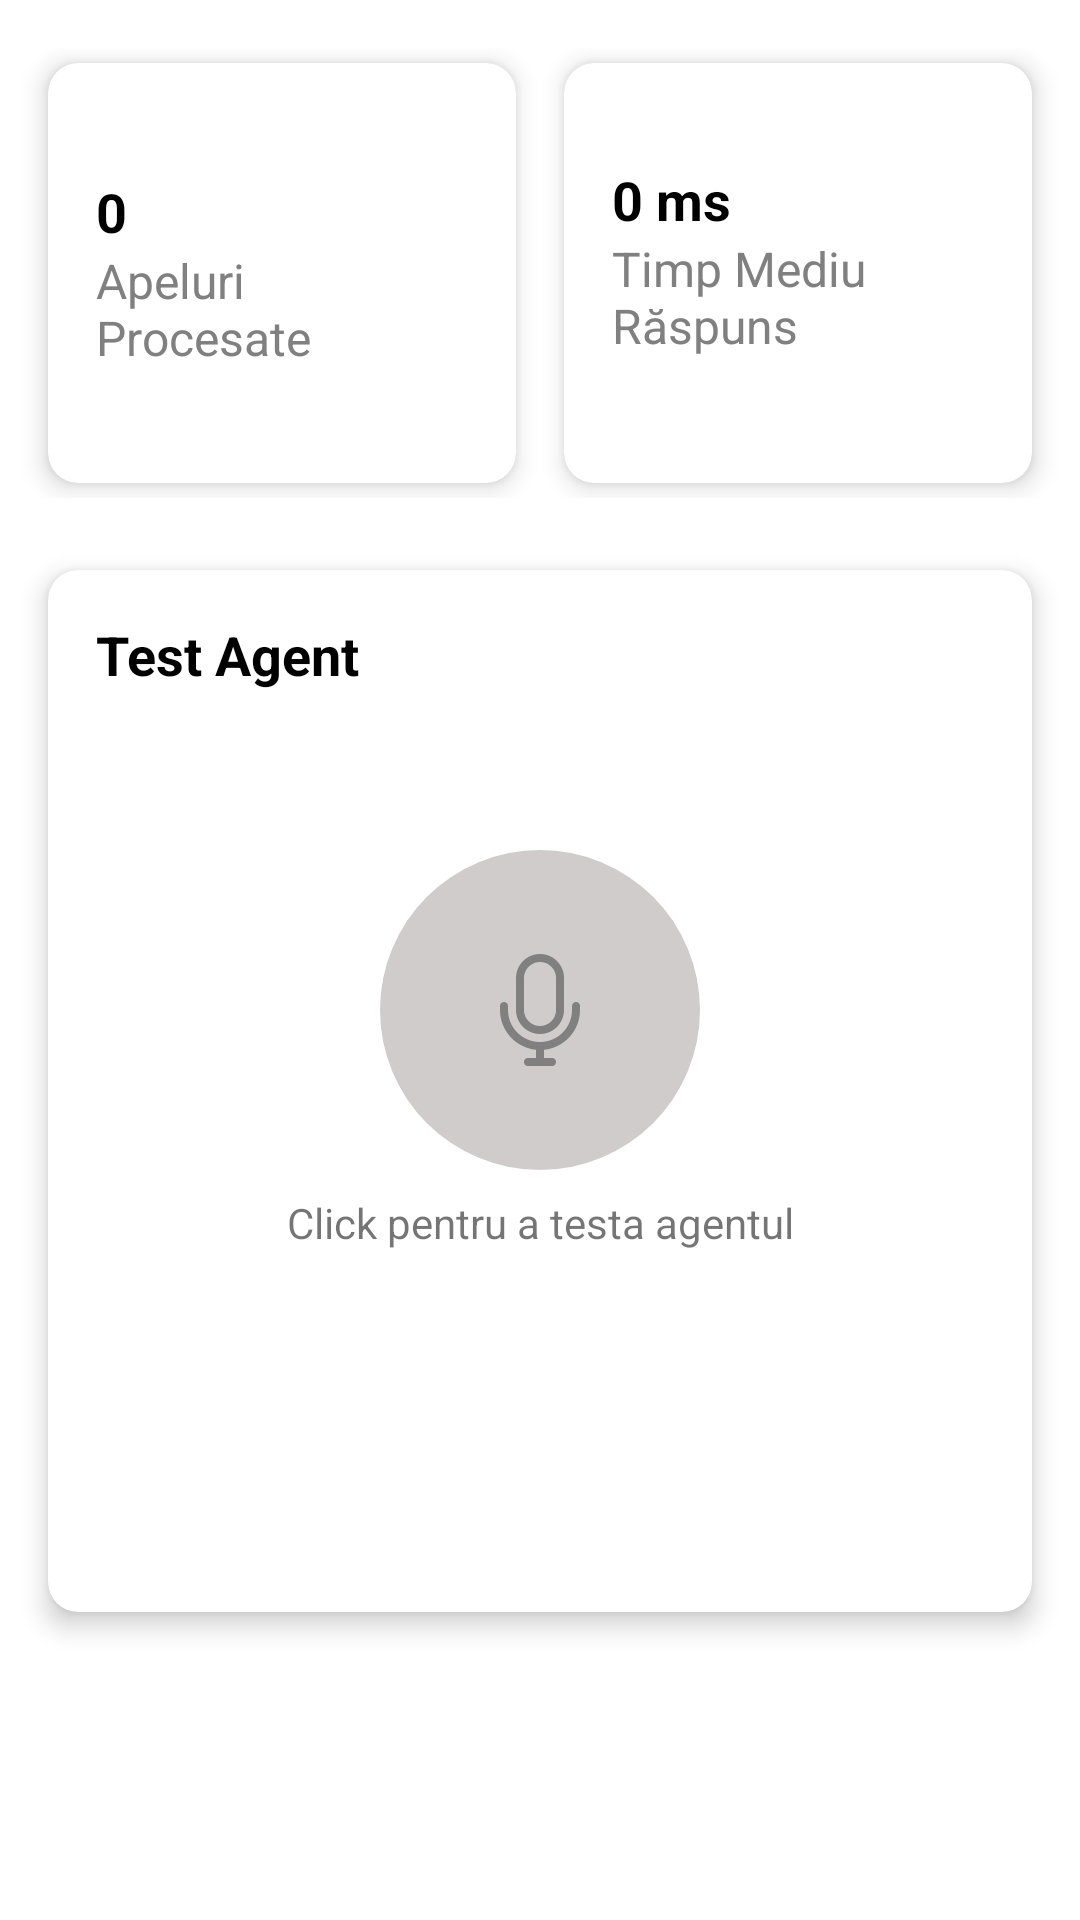

Icon bounding boxes for this 1080px x 1920px phone screenshot, format (x1, y1, x2, y2):
microphone: (380, 850, 700, 1170)
